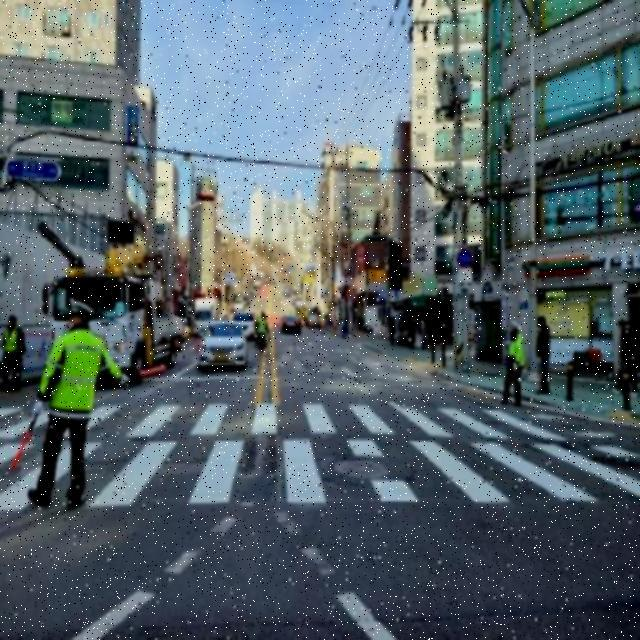crosswalk: (0, 398, 638, 515)
